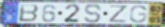2: (64, 3, 81, 24)
6: (41, 3, 57, 23)
B: (18, 4, 40, 23)
G: (129, 5, 148, 24)
S: (84, 3, 103, 24)
Z: (108, 5, 129, 23)
